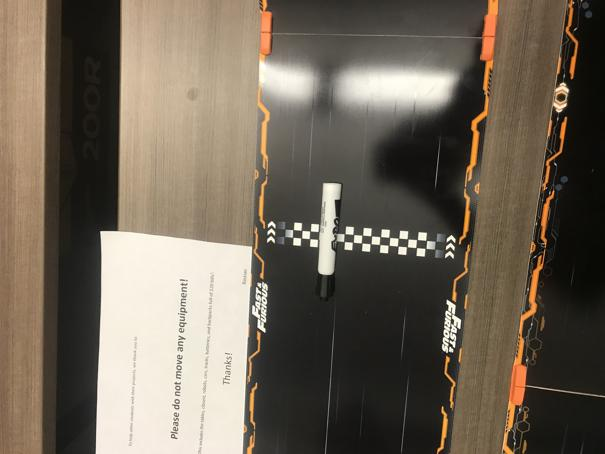Finish Line: (266, 220, 457, 262)
